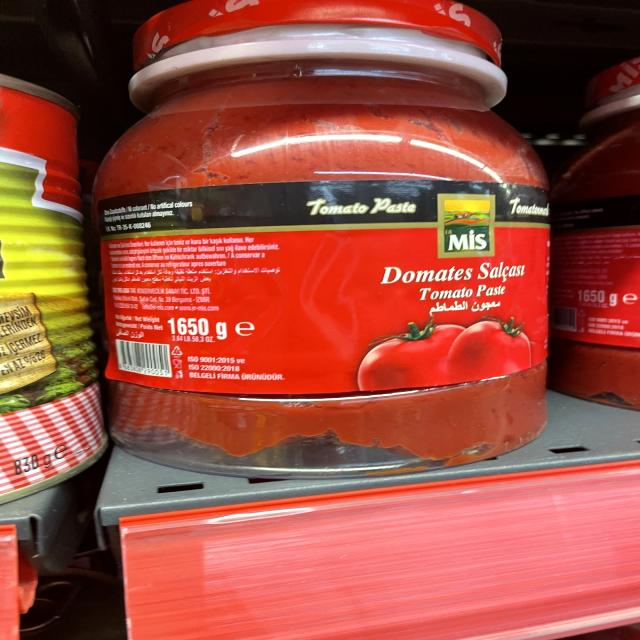tomato paste: (83, 0, 560, 462)
